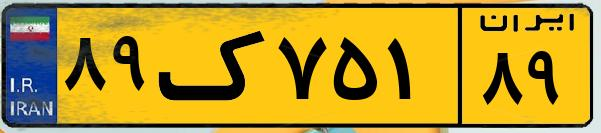1: (385, 28, 445, 110)
5: (330, 28, 385, 110)
7: (270, 28, 330, 110)
8: (57, 26, 110, 100), (475, 38, 525, 113)
9: (525, 38, 570, 115), (110, 28, 158, 98)
ک: (158, 12, 270, 120)
